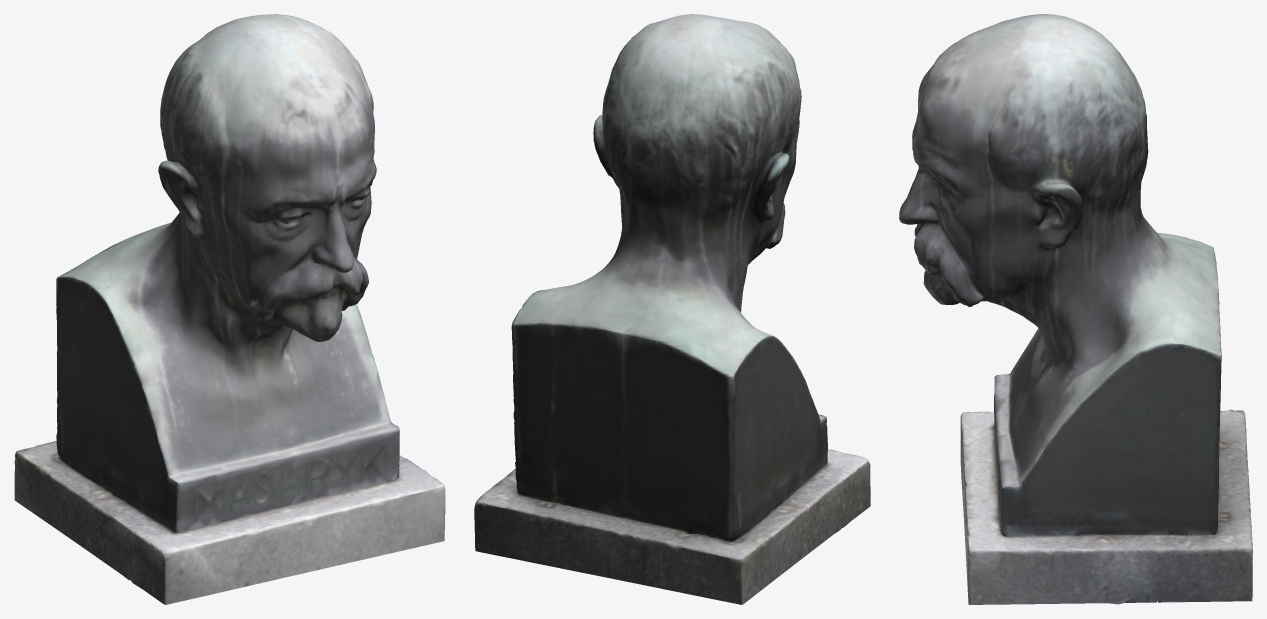
Rendered from tomáš-garrigue-masaryk---bust-vsetin-d6f6ac.glb.
The picture shows the model from 3 angles, left to right: view 1: azimuth 30°, elevation 25°; view 2: azimuth 150°, elevation 25°; view 3: azimuth 270°, elevation 25°; orthographic projection. The views are drawn at different scales.
Parts seen in each view (by area): view 1: PropMesh; view 2: PropMesh; view 3: PropMesh.
Part boxes in pixels (x1,y1,x2,y2): PropMesh: [14, 14, 445, 604]; PropMesh: [474, 14, 870, 604]; PropMesh: [899, 14, 1252, 604].
Bounding box in the file's own units: 0.3472 × 0.5978 × 0.3726.
1 material, 1 textured.
